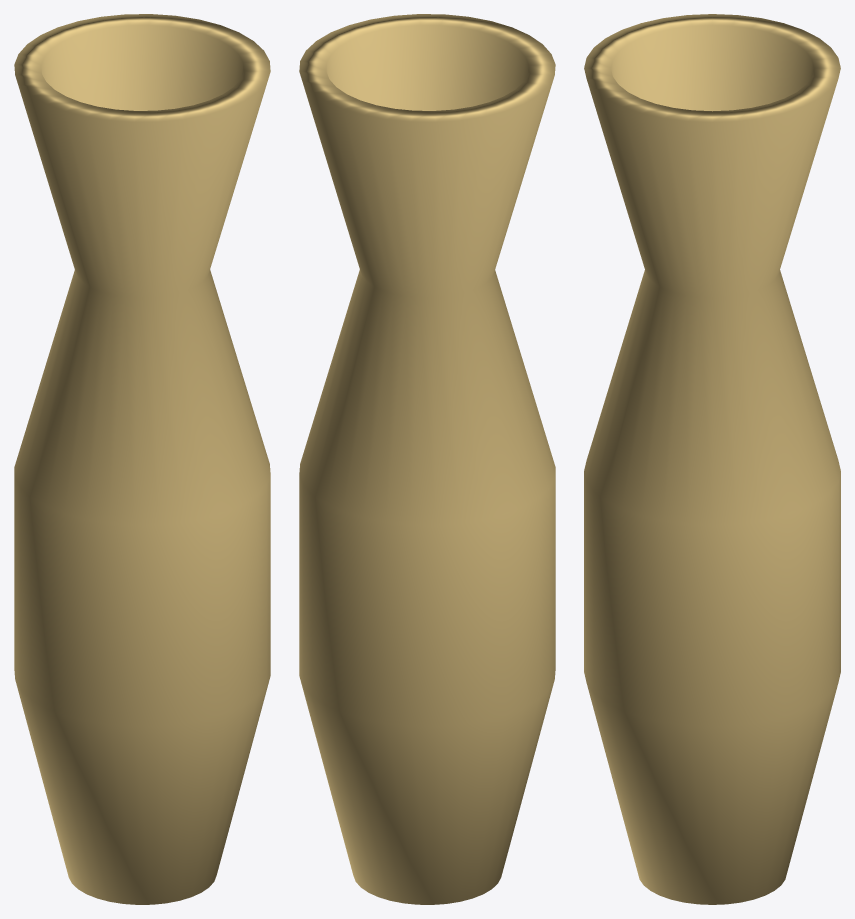
The model's file is Vase2.fbx.
3 views of the same model, side by side, from view 1: azimuth 30°, elevation 25°; view 2: azimuth 150°, elevation 25°; view 3: azimuth 270°, elevation 25° (orthographic).
Visible parts, largest first — view 1: Cylinder.005; view 2: Cylinder.005; view 3: Cylinder.005.
Boxes of the visible parts, bbox=[...] form: Cylinder.005: bbox=[14, 14, 270, 904]; Cylinder.005: bbox=[299, 14, 555, 904]; Cylinder.005: bbox=[584, 14, 840, 904].
Bounding box in the file's own units: 19.63 × 67.9 × 19.63.
